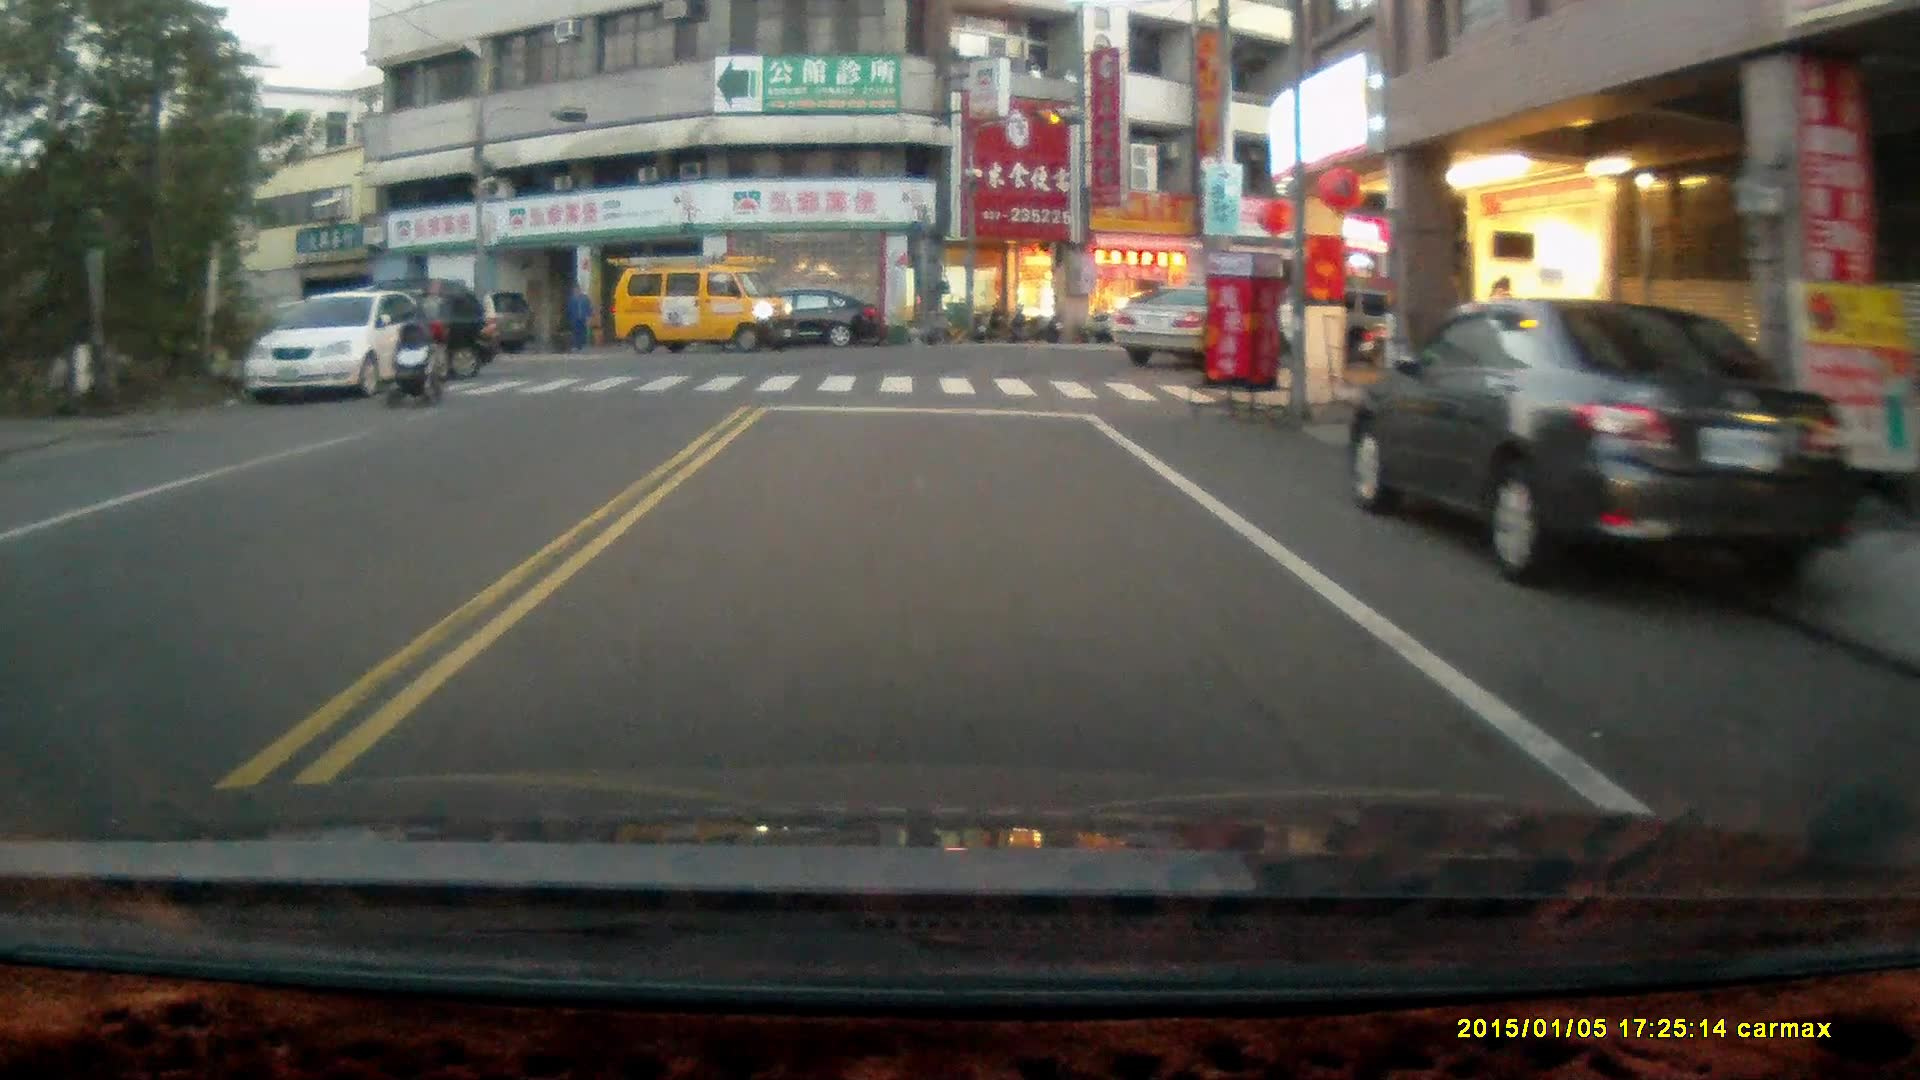pedestrian: (417, 275, 449, 387), (566, 283, 591, 353)
rider: (381, 319, 445, 408)
vehicle: (1346, 296, 1831, 592), (277, 278, 496, 382), (248, 292, 441, 408), (616, 253, 793, 351), (408, 286, 544, 361), (1113, 285, 1233, 368), (738, 286, 884, 353)
